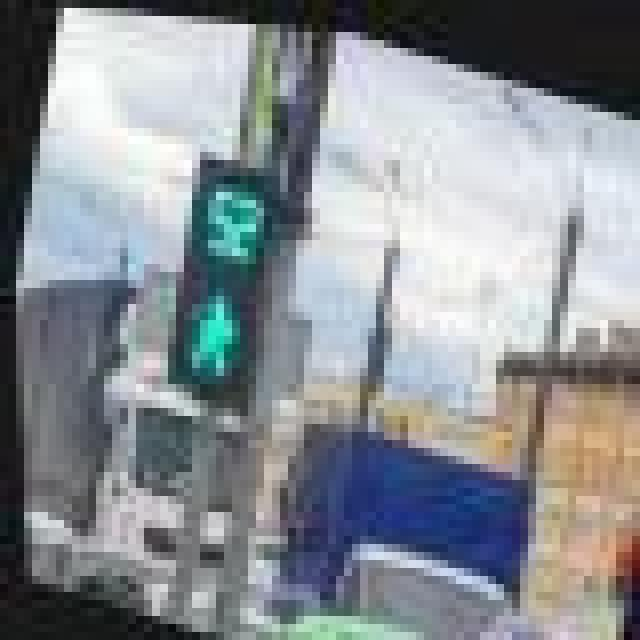greenlight: (162, 158, 266, 396)
